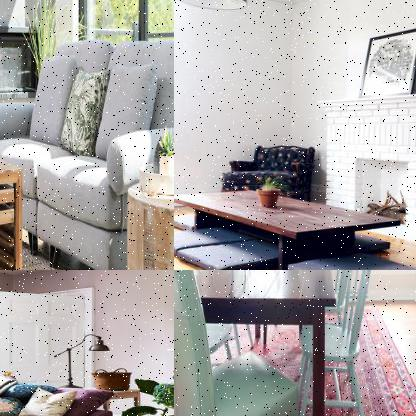table: (174, 270, 343, 415), (174, 182, 407, 269), (121, 161, 173, 269)
